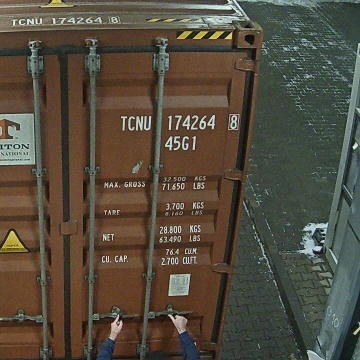serial_id: (121, 115, 238, 131)
